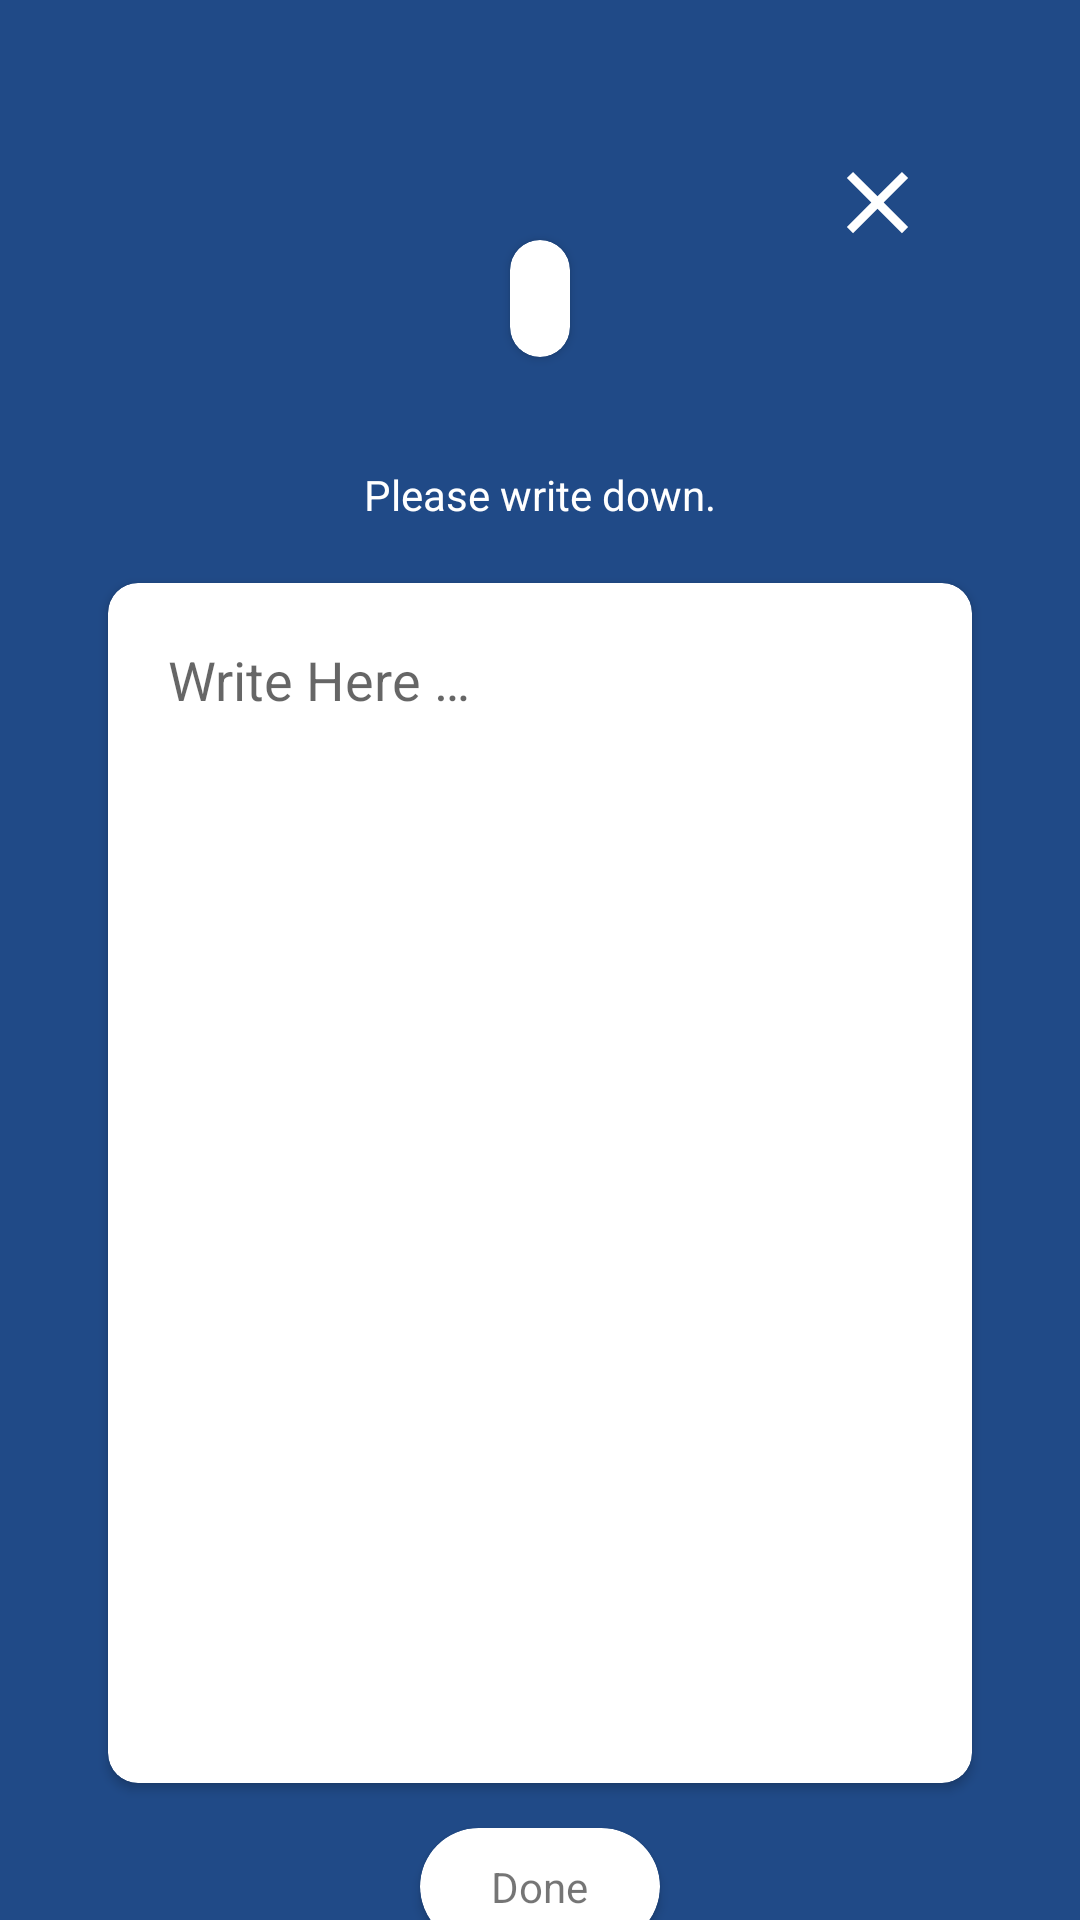

Screen size 1080 x 1920. Icon name, then its center in pixels as (x,y):
close: (877,202)
